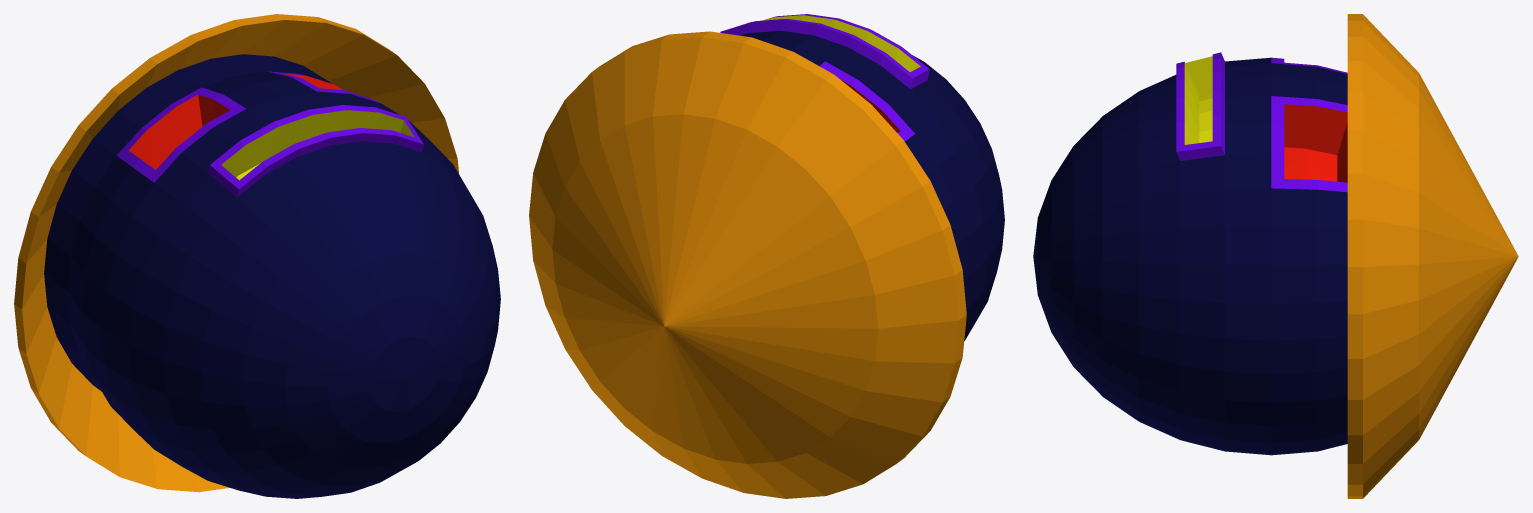
Rendered from Default_Skin_Test.fbx.
3 renders of one model, left to right at view 1: azimuth 30°, elevation 25°; view 2: azimuth 150°, elevation 25°; view 3: azimuth 270°, elevation 25°, orthographic. The views are drawn at different scales.
Parts seen in each view (by area): view 1: def_test_01; view 2: def_test_01; view 3: def_test_01.
Part boxes in pixels (box(x1,y1,x2,y2)): def_test_01: box(14, 14, 500, 498); def_test_01: box(529, 14, 1004, 498); def_test_01: box(1033, 14, 1518, 498).
Bounding box in the file's own units: 1 × 1 × 1.
